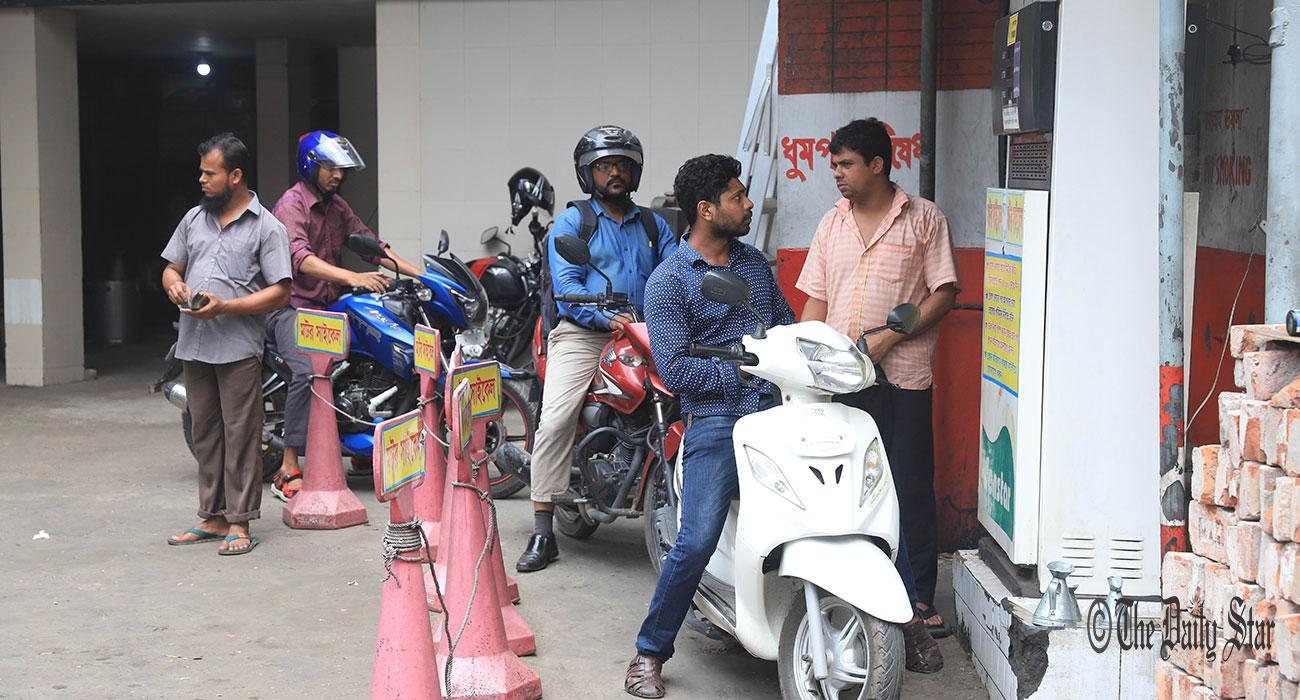motorbike: (148, 231, 534, 502), (525, 238, 686, 594)
scooter: (655, 271, 922, 700)
